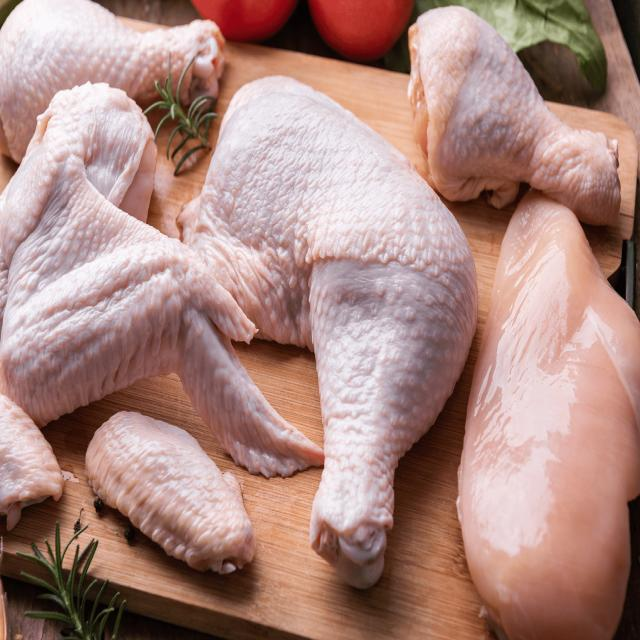chicken: (174, 72, 478, 590), (0, 79, 325, 480), (456, 187, 639, 638), (406, 4, 621, 226), (0, 0, 226, 165), (84, 409, 257, 575)
